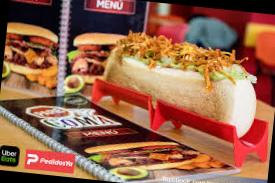Completos: (87, 23, 268, 145)
